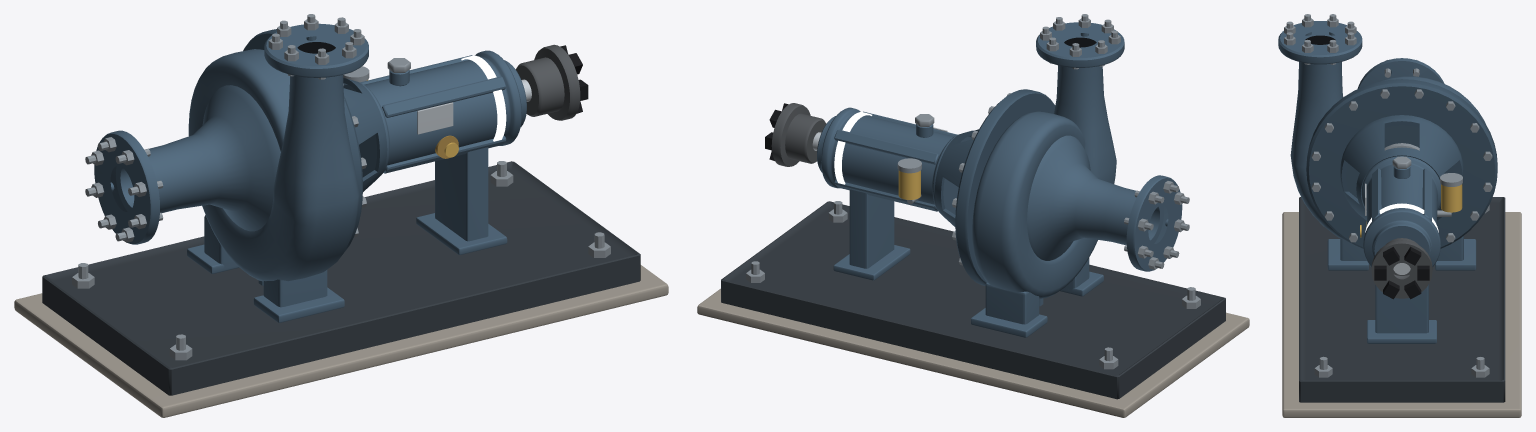
Rendered from pump_end_suction.glb.
3 renders of one model, left to right at view 1: azimuth 30°, elevation 25°; view 2: azimuth 150°, elevation 25°; view 3: azimuth 270°, elevation 25°, orthographic. The views are drawn at different scales.
Visible parts, largest first — view 1: BODY_baseplate, BODY_casing, BODY_bearing_frame, hardware, ROTOR_shaft, BODY_lantern, BODY_cover, box, STATUS_BAND; view 2: BODY_baseplate, BODY_casing, BODY_bearing_frame, BODY_cover, hardware, ROTOR_shaft, BODY_lantern, oiler, STATUS_BAND; view 3: BODY_baseplate, BODY_cover, BODY_casing, BODY_bearing_frame, BODY_lantern, hardware, ROTOR_shaft, oiler, STATUS_BAND.
Part boxes in pixels (x1=…): BODY_baseplate: x1=14, y1=161, x2=668, y2=417; BODY_casing: x1=94, y1=23, x2=368, y2=322; BODY_bearing_frame: x1=343, y1=50, x2=526, y2=254; hardware: x1=72, y1=14, x2=610, y2=360; ROTOR_shaft: x1=515, y1=44, x2=588, y2=120; BODY_lantern: x1=343, y1=78, x2=387, y2=191; BODY_cover: x1=243, y1=29, x2=362, y2=251; box: x1=417, y1=102, x2=453, y2=134; STATUS_BAND: x1=461, y1=55, x2=506, y2=141; BODY_baseplate: x1=697, y1=201, x2=1249, y2=417; BODY_casing: x1=971, y1=22, x2=1182, y2=337; BODY_bearing_frame: x1=817, y1=107, x2=971, y2=280; BODY_cover: x1=955, y1=89, x2=1055, y2=285; hardware: x1=746, y1=14, x2=1200, y2=369; ROTOR_shaft: x1=765, y1=103, x2=826, y2=166; BODY_lantern: x1=935, y1=129, x2=978, y2=226; oiler: x1=897, y1=158, x2=921, y2=204; STATUS_BAND: x1=834, y1=112, x2=872, y2=184; BODY_baseplate: x1=1282, y1=197, x2=1521, y2=417; BODY_cover: x1=1306, y1=79, x2=1497, y2=248; BODY_casing: x1=1278, y1=21, x2=1485, y2=270; BODY_bearing_frame: x1=1361, y1=156, x2=1440, y2=343; BODY_lantern: x1=1340, y1=115, x2=1463, y2=220; hardware: x1=1284, y1=14, x2=1492, y2=377; ROTOR_shaft: x1=1371, y1=238, x2=1432, y2=299; oiler: x1=1437, y1=173, x2=1462, y2=216; STATUS_BAND: x1=1365, y1=203, x2=1438, y2=232.
Bounding box in the file's own units: 1.14 × 0.7 × 0.59.
